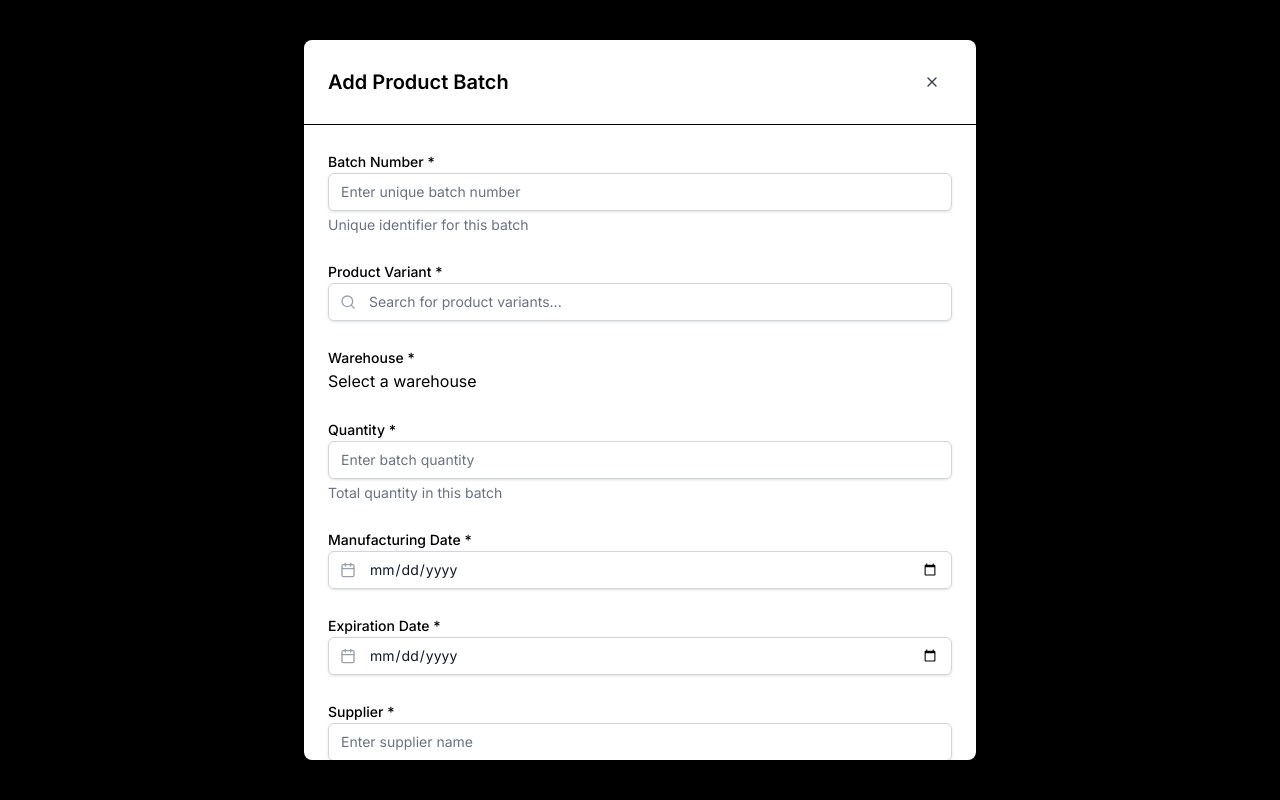
BatchForm › handles product variant search
Focus on input to show search dropdown
Type "Test" into the field labelled "Product Variant *" at (640, 302), box left=328, top=283, right=952, bottom=321
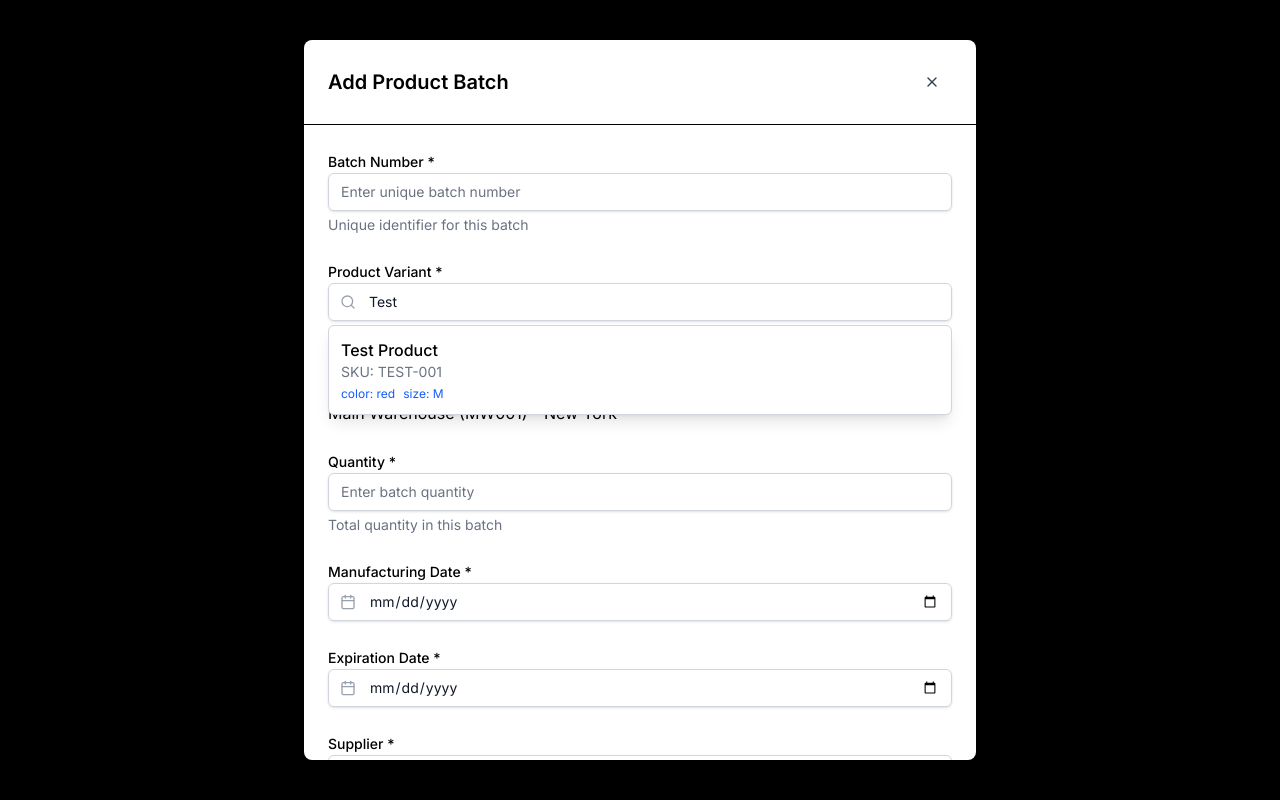
Expected: the text "Test Product" is shown, left=341, top=340, right=438, bottom=360
Expected: the text "SKU: TEST-001" is shown, left=341, top=363, right=442, bottom=380
